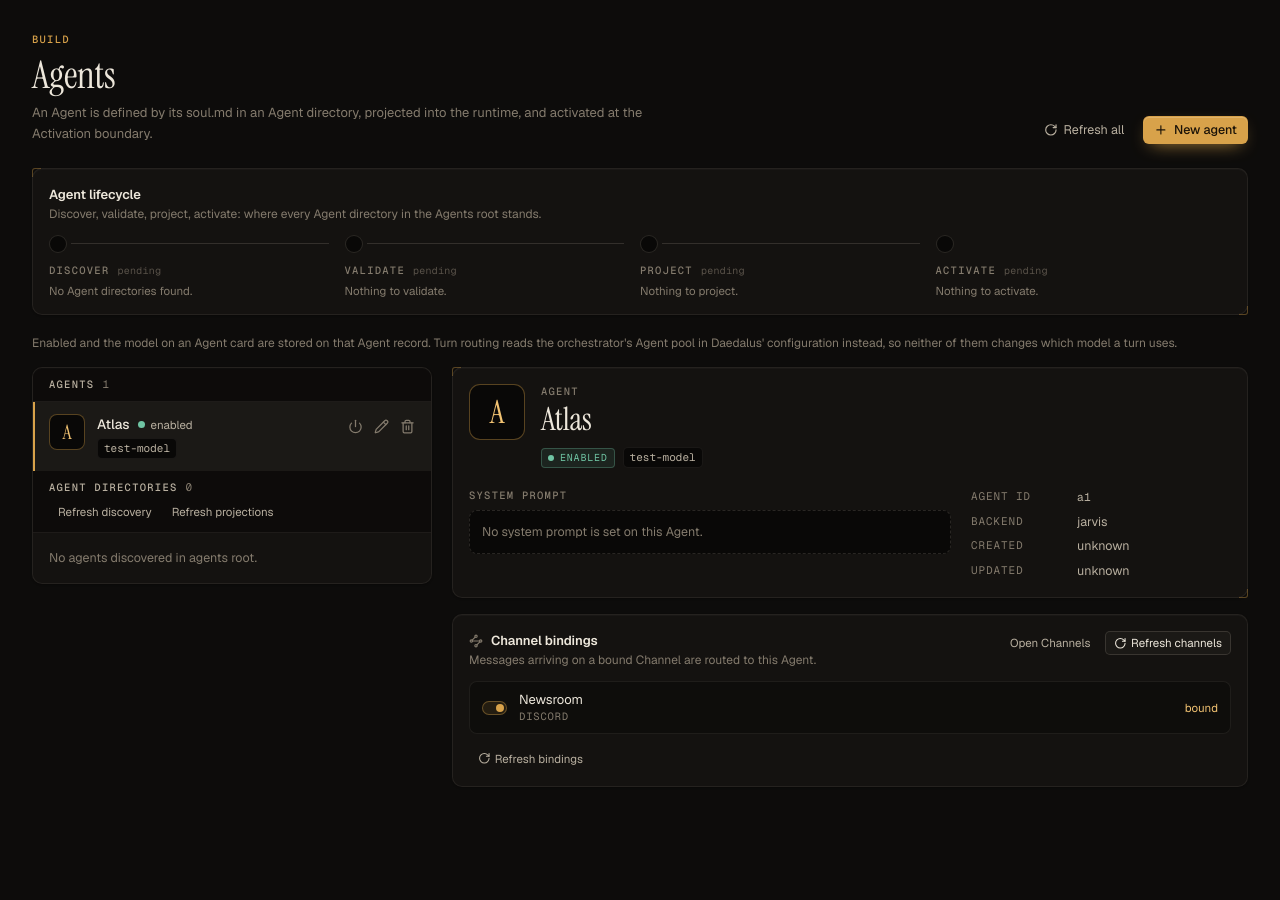
Test case: Agent channel resources › retains known bindings as stale after failed refresh and recovers with read-only retry
The image size is (1280, 900).
Expected: the heading "Atlas" is shown, [97,414,130,434]
Expected: the button "Newsroom discord bound" is enabled, [470,682,1230,733]
Click the button with aria-label "Refresh bindings for Atlas". click: (531, 758)
box: [469,746,592,770]
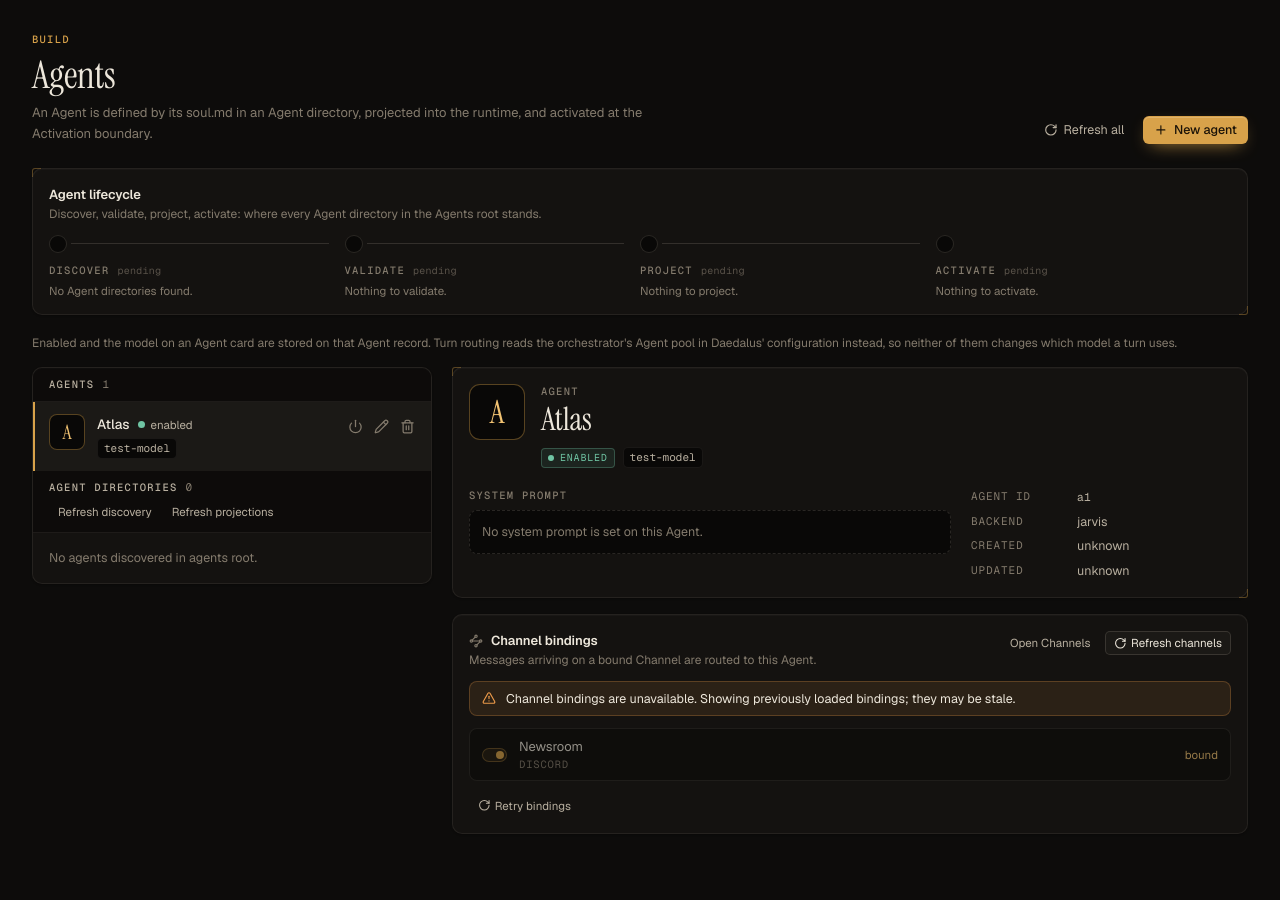
Now the message shows "previously loaded bindings; they may be stale", box [700,690,1015,707]
Now the button "Newsroom discord bound" is disabled, box [470,729,1230,780]
Click the button with aria-label "Retry bindings for Atlas". click: (524, 805)
box: [469,793,580,817]
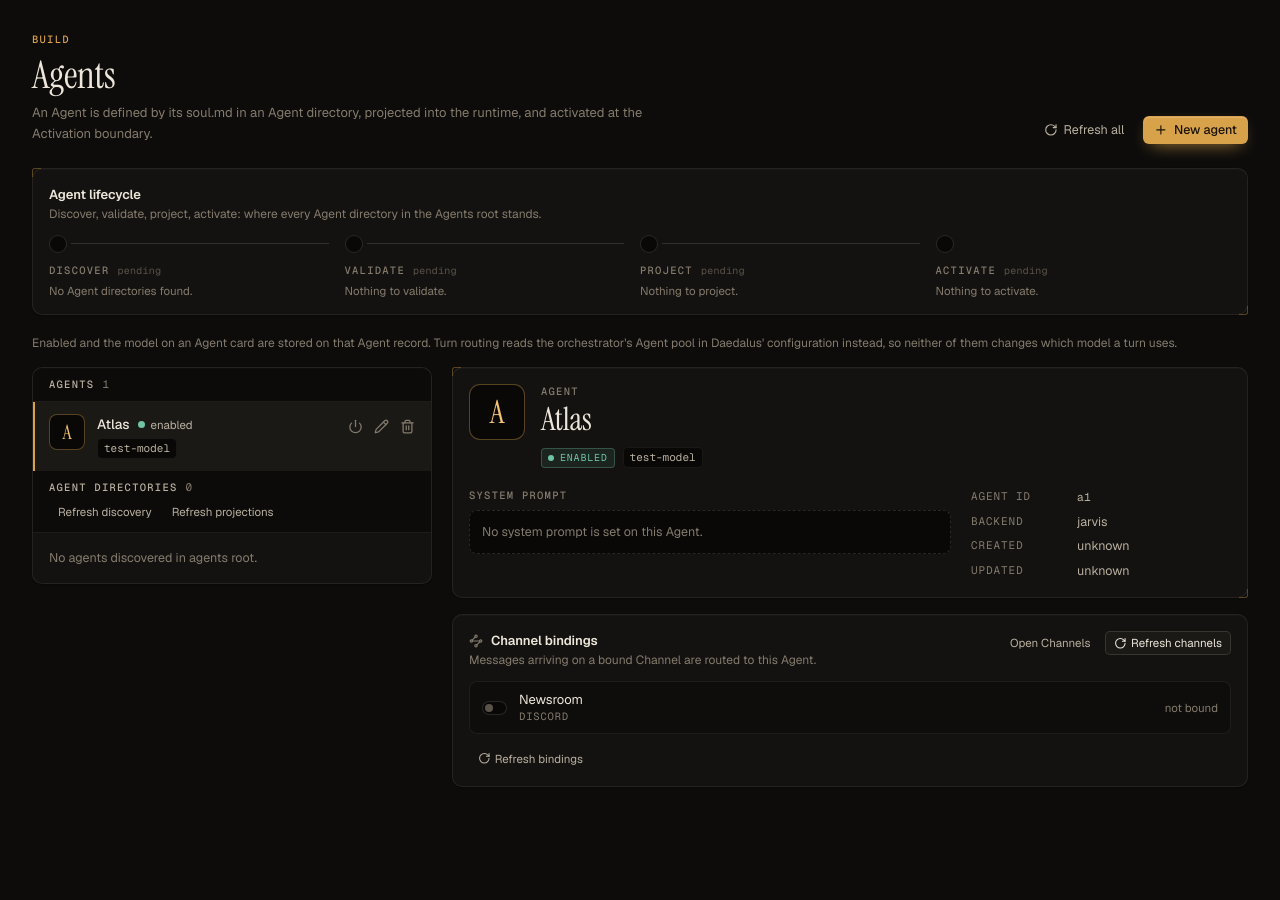
Now the button "Newsroom discord not bound" is enabled, box [470,682,1230,733]
